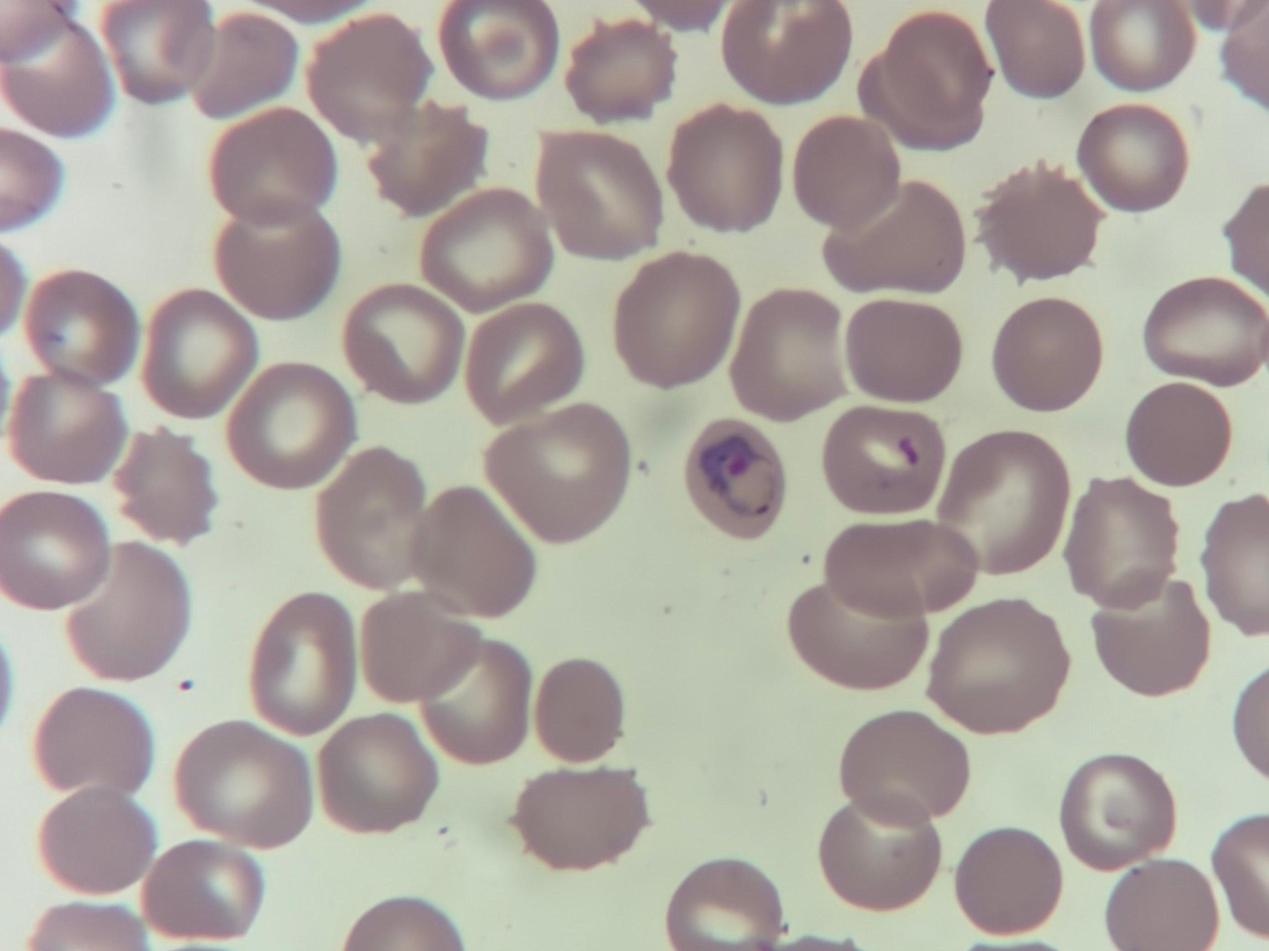Infected: (683, 418, 793, 553)
Uninfected: (484, 400, 630, 545), (937, 427, 1070, 569), (612, 249, 743, 391), (536, 122, 665, 265), (927, 601, 1070, 726), (55, 544, 184, 682), (785, 567, 930, 688), (824, 510, 977, 621), (422, 190, 555, 317), (406, 480, 533, 612), (315, 446, 426, 597), (173, 719, 309, 842), (228, 361, 356, 489), (726, 286, 848, 420), (217, 195, 339, 326), (1091, 564, 1211, 697), (819, 783, 942, 912), (142, 286, 256, 425), (249, 592, 356, 740), (822, 181, 962, 294), (310, 17, 431, 145), (363, 97, 487, 221), (1141, 272, 1267, 394), (838, 710, 965, 830), (363, 578, 482, 706), (509, 765, 648, 874), (461, 304, 586, 425), (981, 160, 1102, 285), (1059, 751, 1178, 878), (210, 113, 339, 230), (347, 281, 463, 411), (1070, 475, 1178, 612), (23, 265, 138, 393), (673, 99, 781, 233), (7, 364, 125, 486), (425, 633, 531, 766), (0, 487, 107, 618), (320, 722, 440, 837), (726, 0, 851, 108), (0, 14, 112, 132), (986, 295, 1097, 414), (822, 409, 939, 521), (794, 113, 905, 230), (37, 688, 148, 805), (105, 0, 221, 111), (844, 297, 963, 403), (43, 781, 152, 895), (189, 12, 300, 123), (954, 824, 1065, 935), (443, 1, 563, 102), (1080, 103, 1187, 216), (858, 56, 984, 149), (571, 17, 674, 129), (1123, 377, 1231, 483), (666, 854, 783, 951), (146, 843, 257, 941), (119, 430, 215, 543), (1100, 861, 1217, 951), (530, 653, 622, 766), (988, 1, 1088, 101), (890, 12, 991, 111), (1091, 1, 1196, 88)
